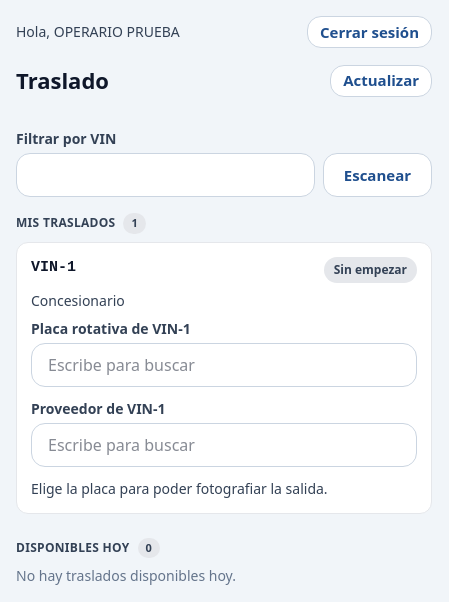
Scenario: AC1 · el selector de placa y proveedor en la orden › elegir la placa la guarda, la muestra en la tarjeta y quita el aviso
The width and height of the screenshot is (449, 602).
Expected: the text "VIN-1" is shown, [31,256,76,279]
Click the dropdown labelled "Placa rotativa de VIN-1": (224, 364) [31,342,417,386]
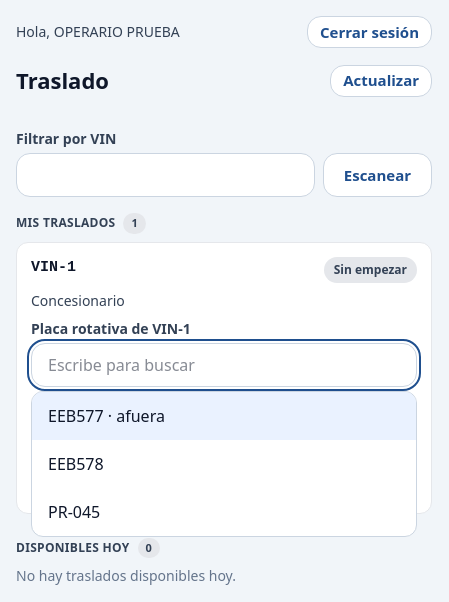
Click the option "EEB578": (76, 464) [48,452,104,474]
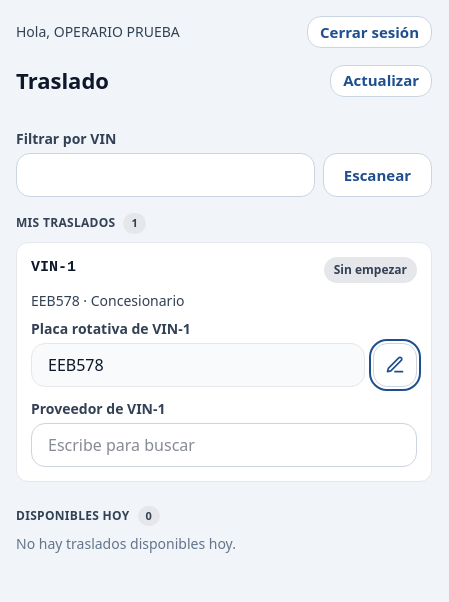
Expected: the element "Placa rotativa de VIN-1 EEB578" is shown, [31,318,417,386]
Expected: the text "EEB578 · Concesionario" is shown, [31,290,184,310]
Expected: the text "Elige la placa para poder fotografiar la salida." is gone
